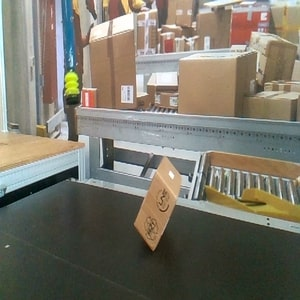box: (133, 156, 183, 252)
